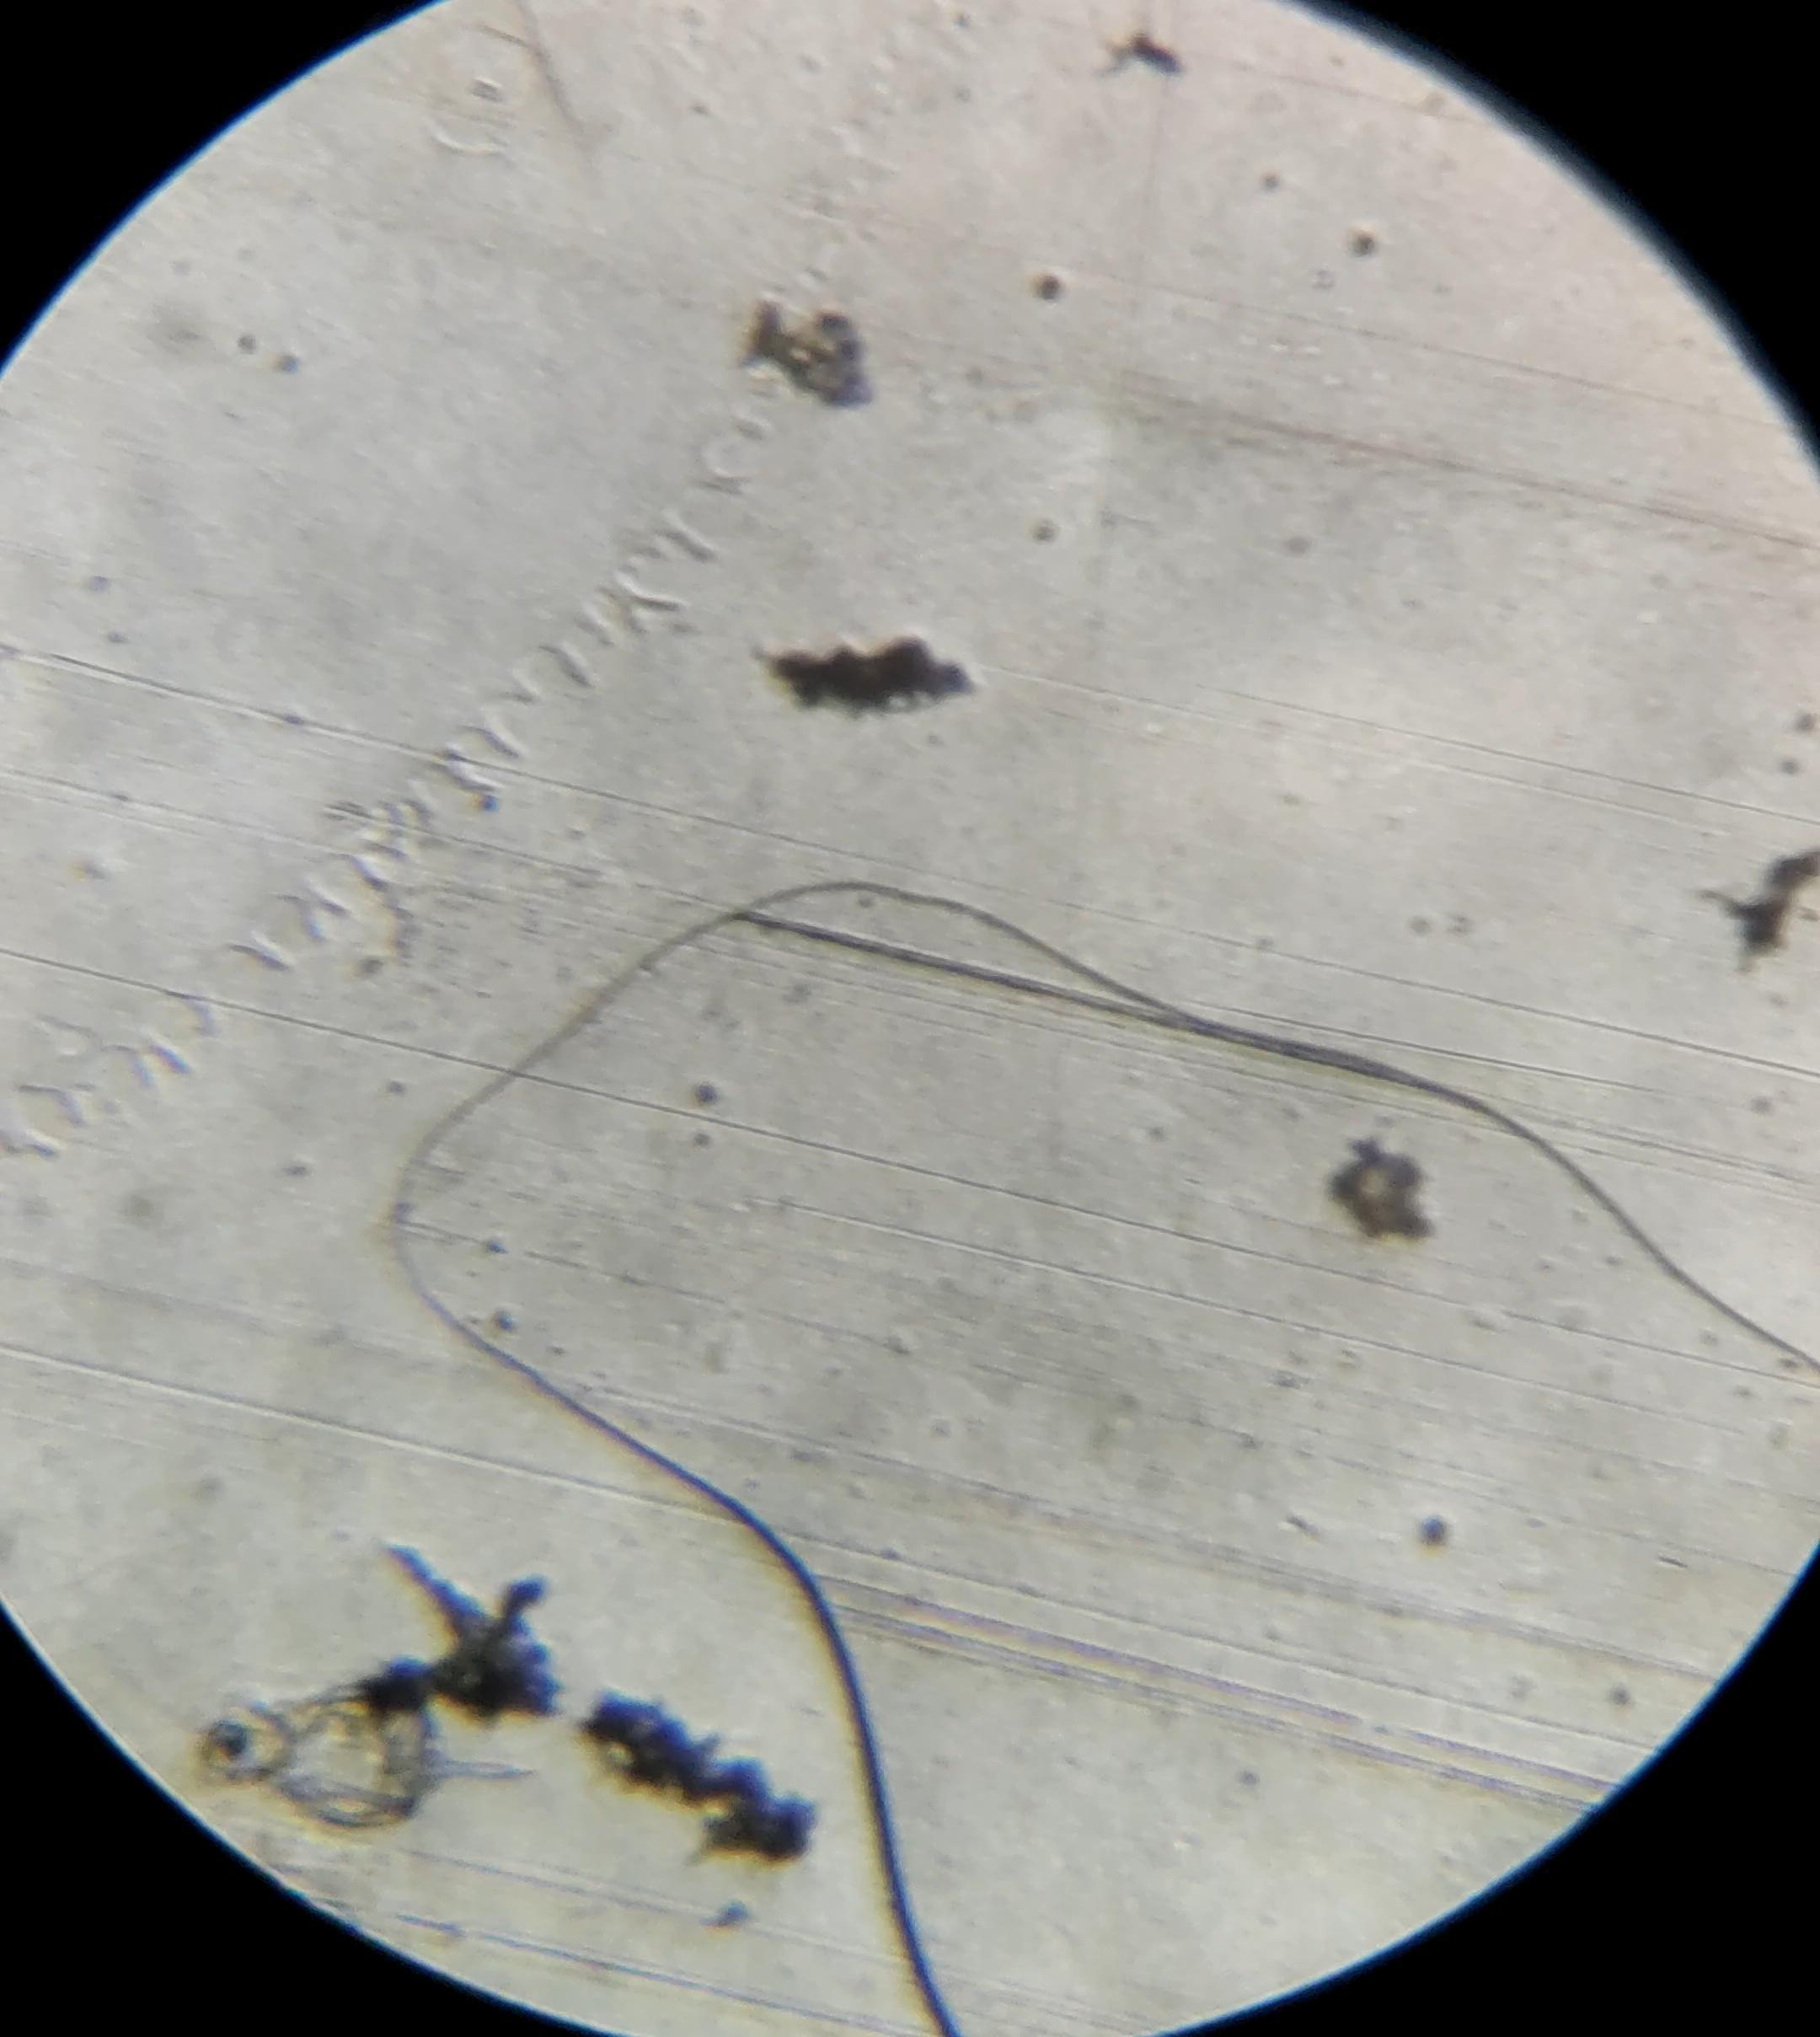Mo: (228, 1694, 541, 1830)
